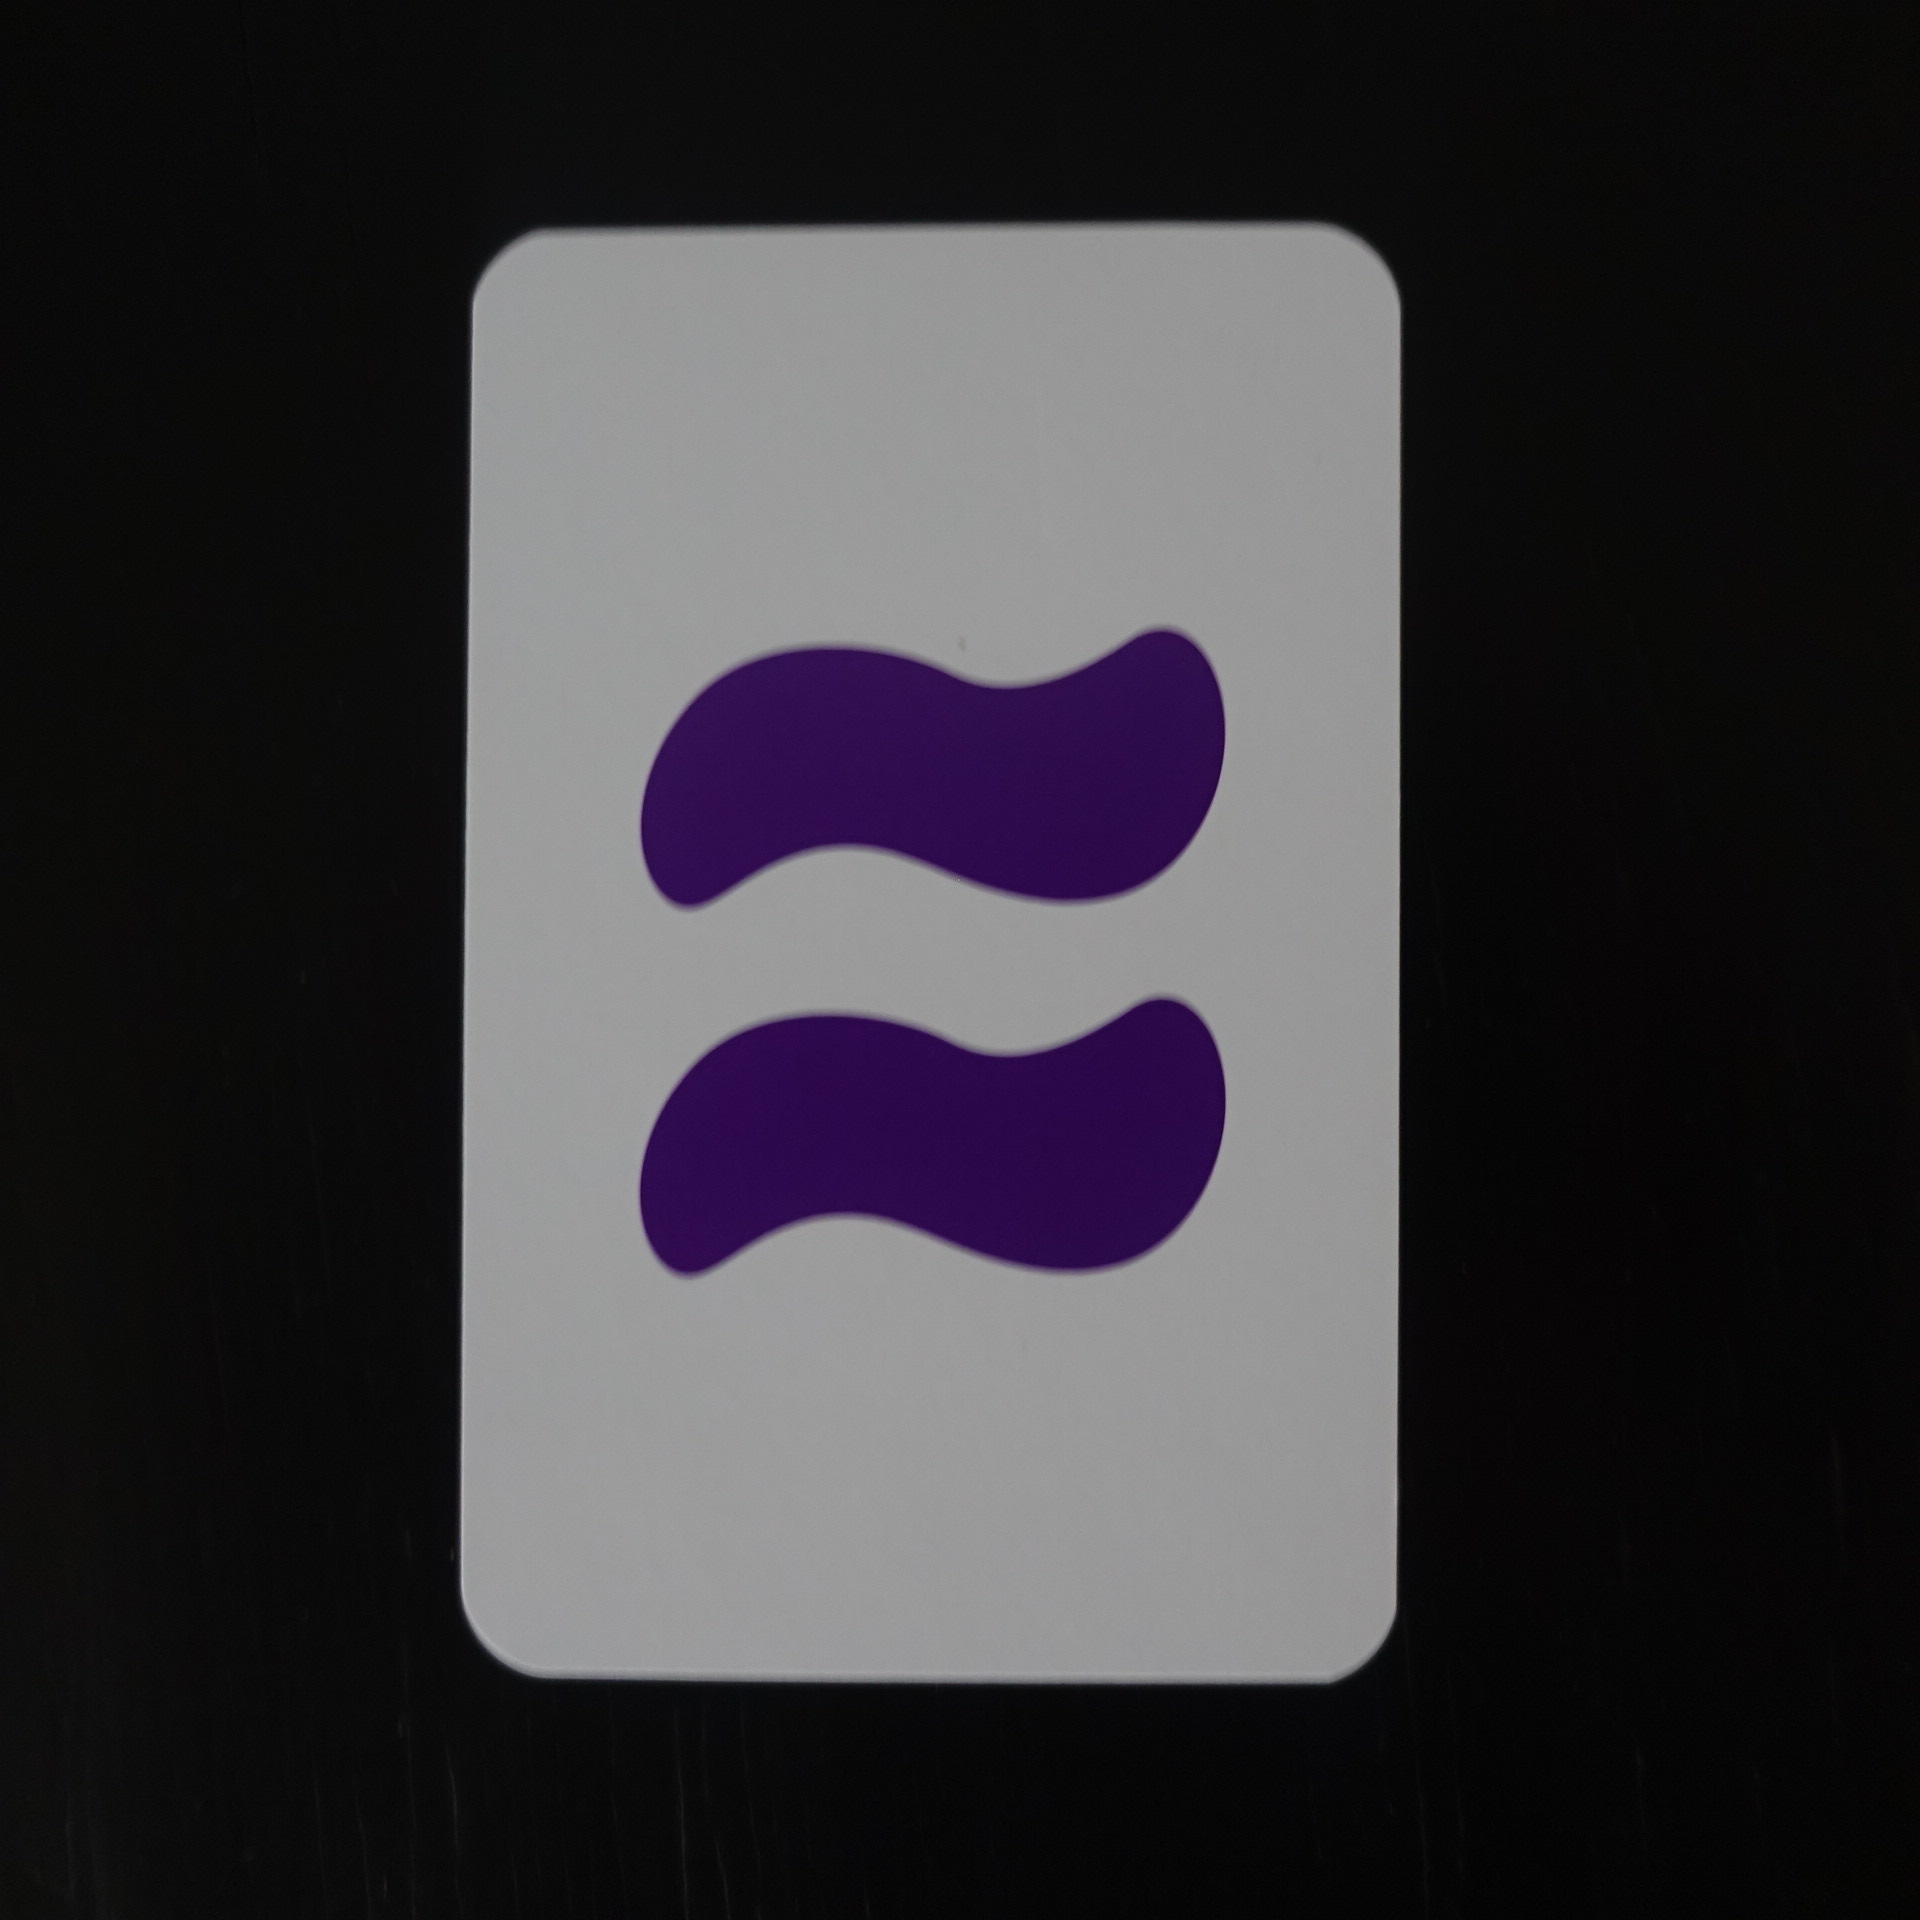c-2-f-s-p: (438, 206, 1422, 1709)
